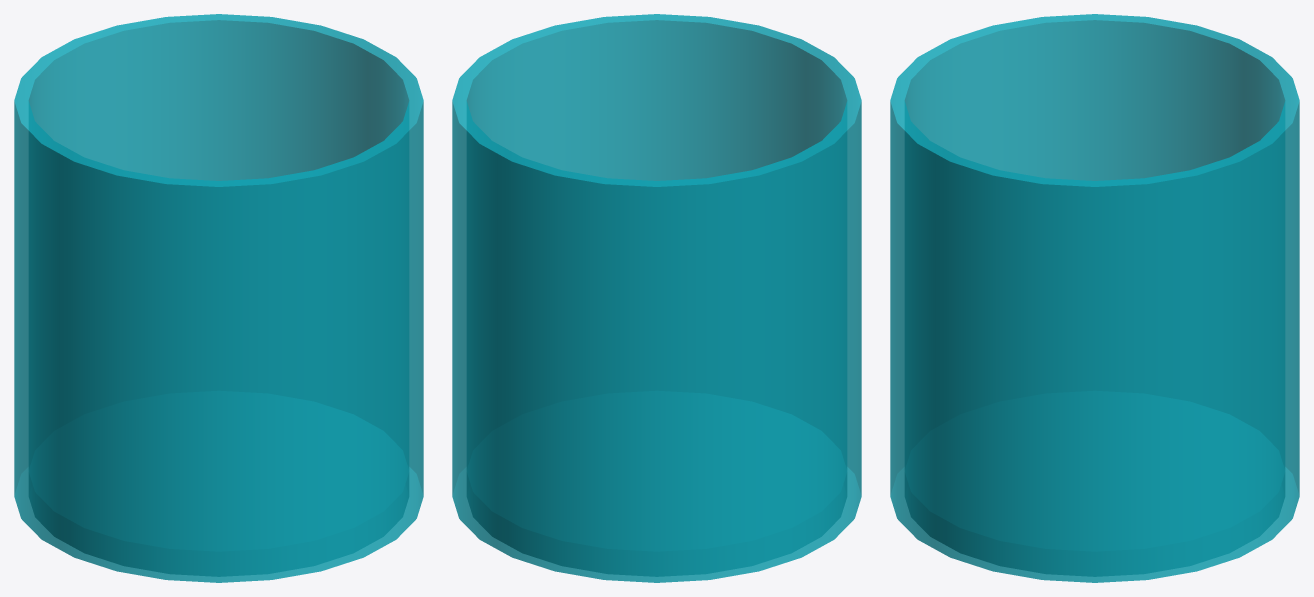
Rendered from lt_blue.min.dae.
3 renders of one model, left to right at view 1: azimuth 30°, elevation 25°; view 2: azimuth 150°, elevation 25°; view 3: azimuth 270°, elevation 25°, orthographic.
Visible parts, largest first — view 1: SketchUp (×3); view 2: SketchUp (×3); view 3: SketchUp (×3).
Part boxes in pixels (x1=…): SketchUp (×3): x1=14, y1=14, x2=423, y2=582; SketchUp (×3): x1=452, y1=14, x2=861, y2=582; SketchUp (×3): x1=890, y1=14, x2=1299, y2=582.
Size of the model in its own units: 2.95 by 2.95 by 3.15.
Materials: 1 (1 with a texture image).
